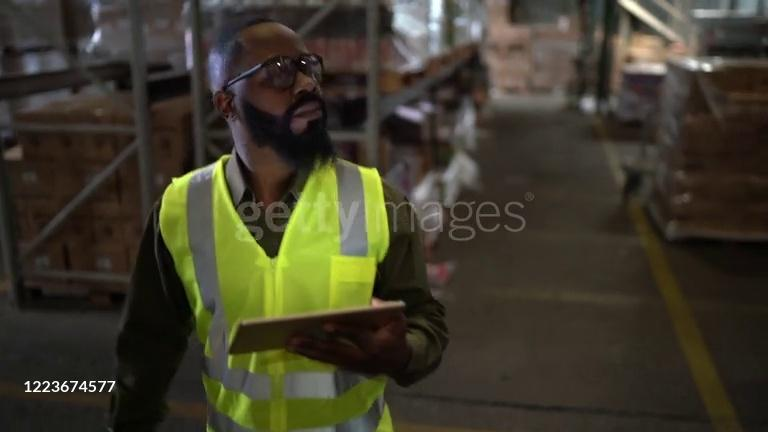person: (109, 7, 449, 432)
